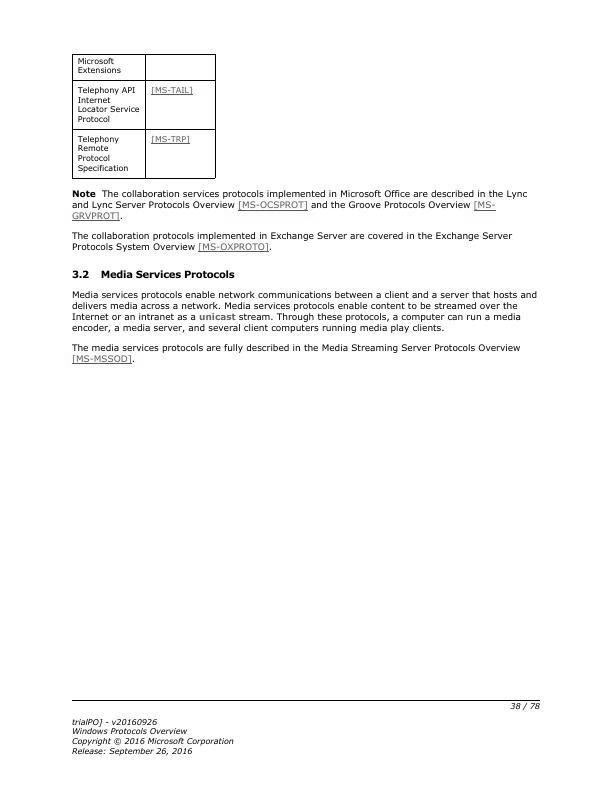table: (70, 52, 218, 180)
text: (68, 289, 540, 333), (68, 187, 527, 223), (67, 341, 522, 368), (68, 228, 513, 255), (68, 715, 235, 758), (70, 266, 238, 281)
